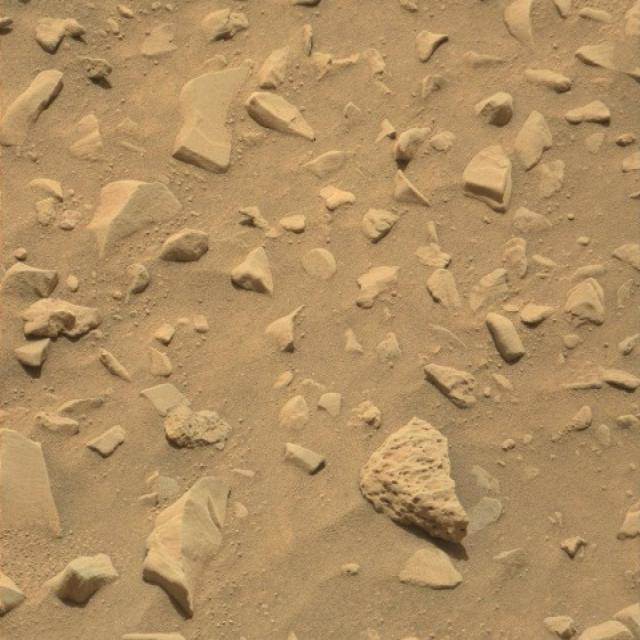mars-rocks: (361, 418, 469, 544), (143, 477, 229, 618), (172, 65, 248, 172), (87, 180, 182, 258), (43, 555, 118, 606), (465, 145, 513, 212)
